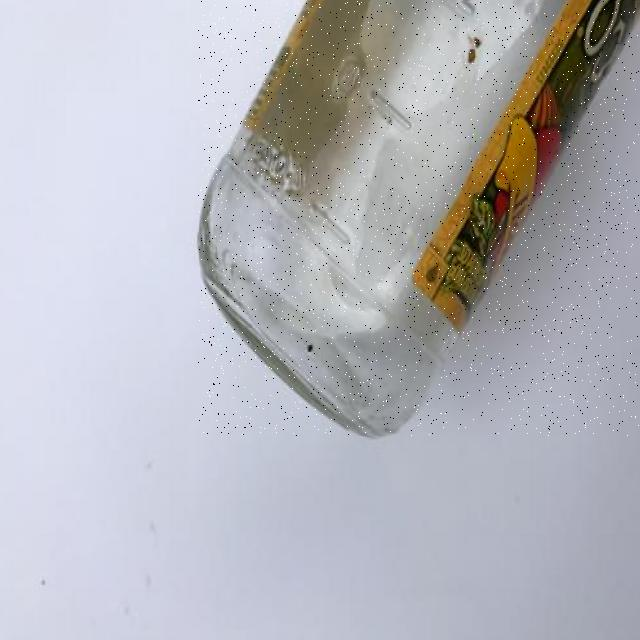glass: (199, 1, 639, 435)
